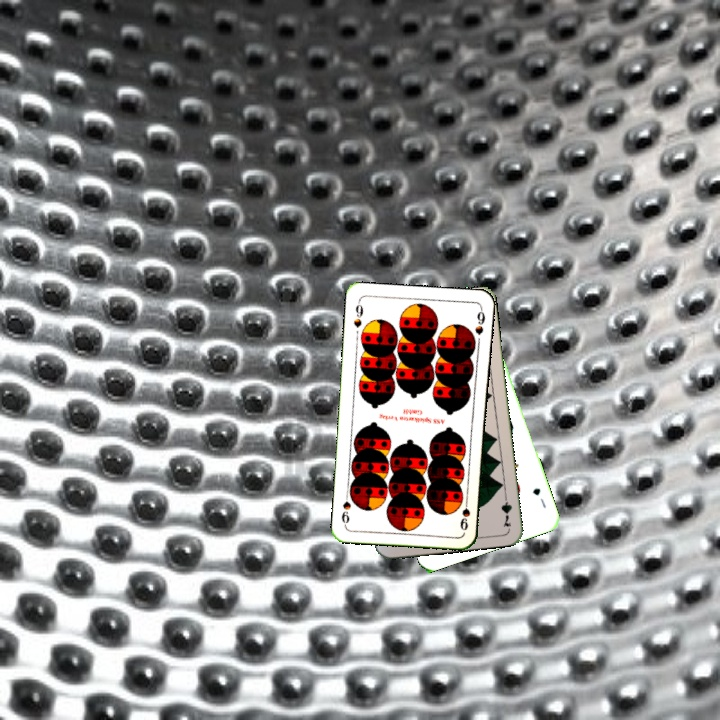G7: (497, 489, 515, 529)
GU: (529, 484, 549, 511)
S9: (456, 493, 472, 533), (350, 297, 366, 330)
